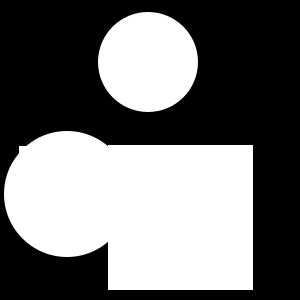circle: (108, 145, 253, 290), (19, 146, 100, 227)
rectangle: (4, 131, 130, 257), (98, 12, 198, 112)
